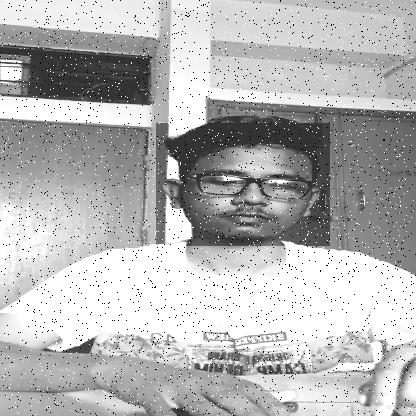Normal: (156, 123, 330, 246)
